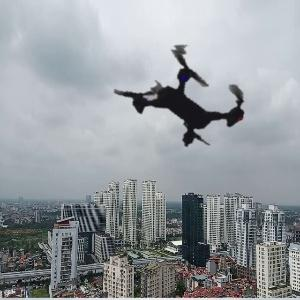drone: (90, 2, 285, 197)
